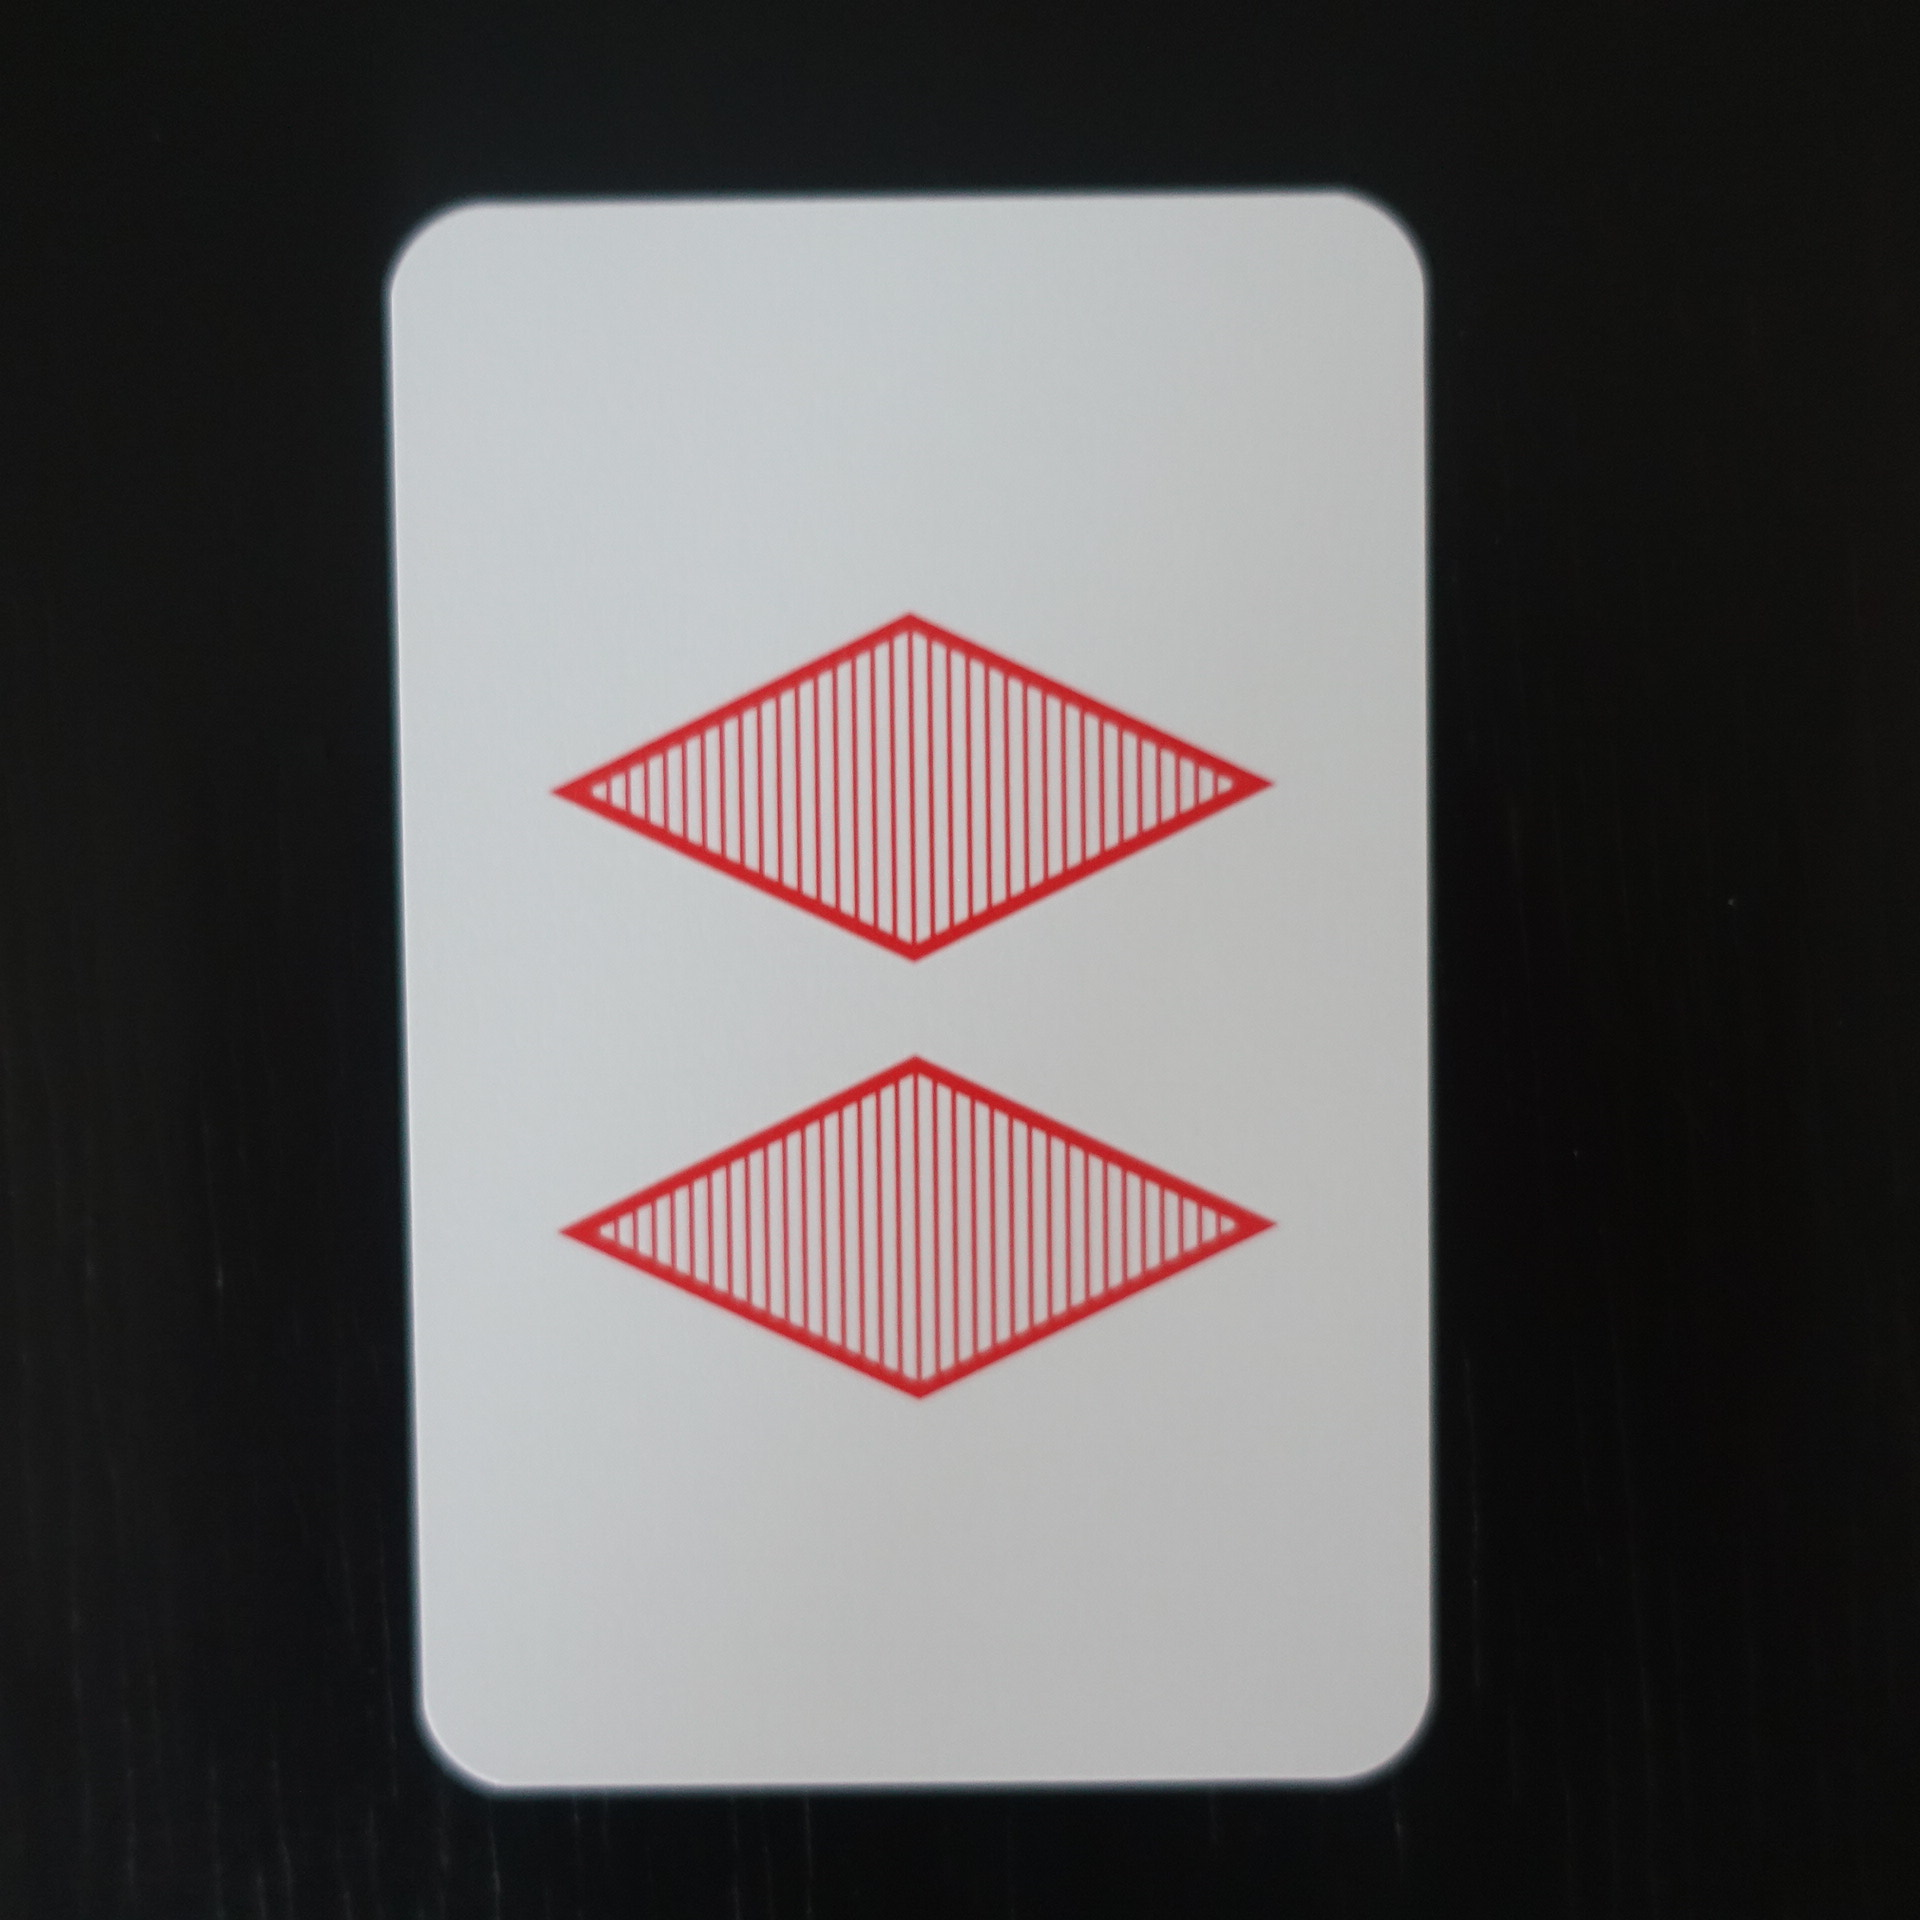c-2-f-d-r: (353, 171, 1468, 1816)
